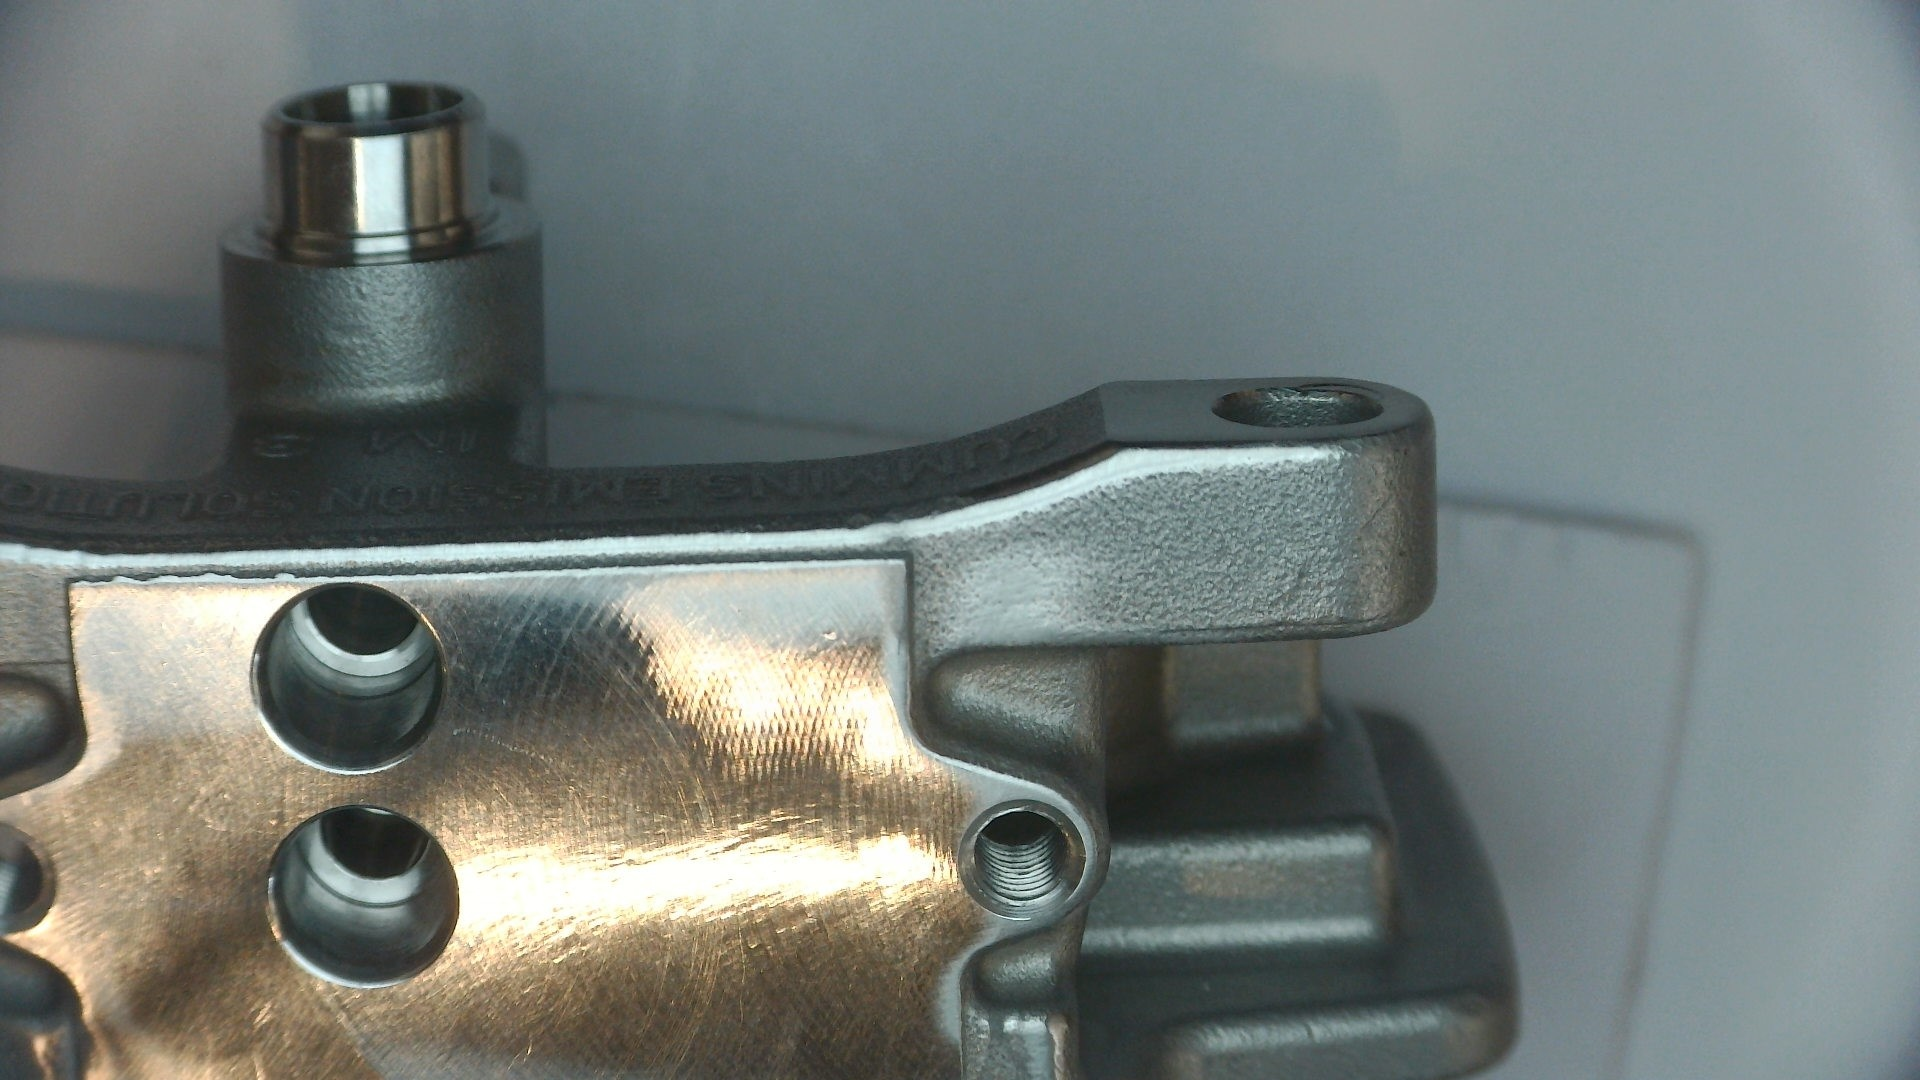thread_absence: (245, 579, 450, 775), (258, 802, 465, 990)
thread_presence: (971, 804, 1077, 914)
